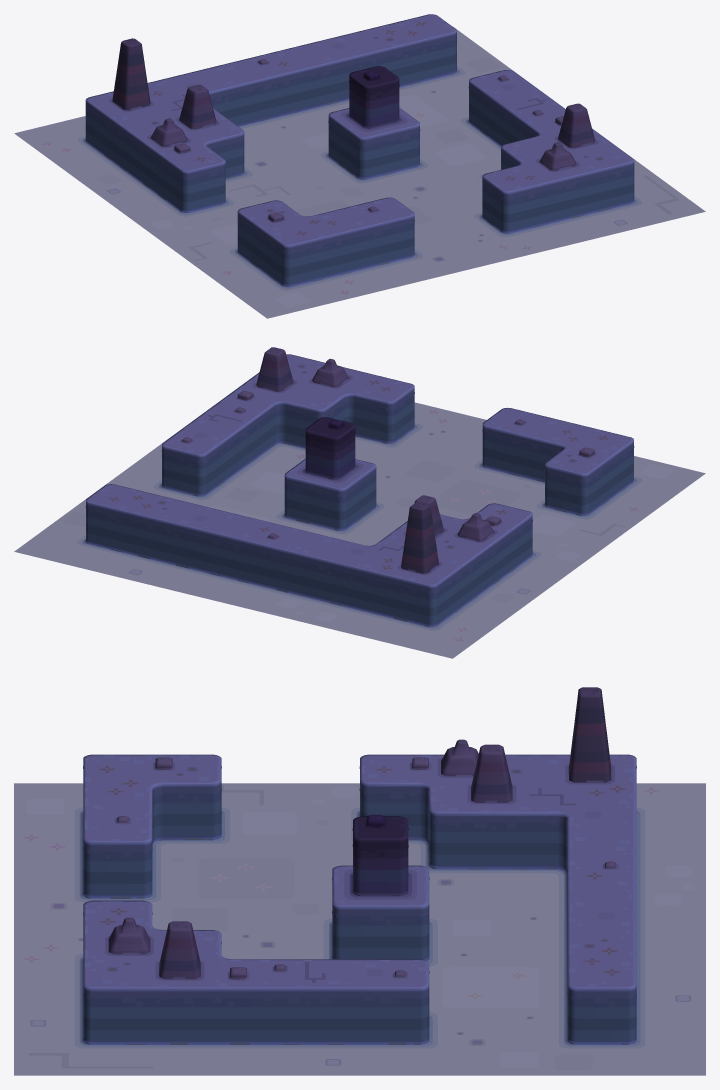
The model's file is C_cave1_02.fbx.
3 renders of one model, top to bottom at view 1: azimuth 30°, elevation 25°; view 2: azimuth 150°, elevation 25°; view 3: azimuth 270°, elevation 25°, orthographic. The views are drawn at different scales.
Visible parts, largest first — view 1: C_cave1_02; view 2: C_cave1_02; view 3: C_cave1_02.
Part boxes in pixels (bbox=[...]): C_cave1_02: bbox=[14, 14, 705, 318]; C_cave1_02: bbox=[14, 347, 705, 658]; C_cave1_02: bbox=[14, 687, 705, 1075].
Bounding box in the file's own units: 50 × 11.34 × 50.
